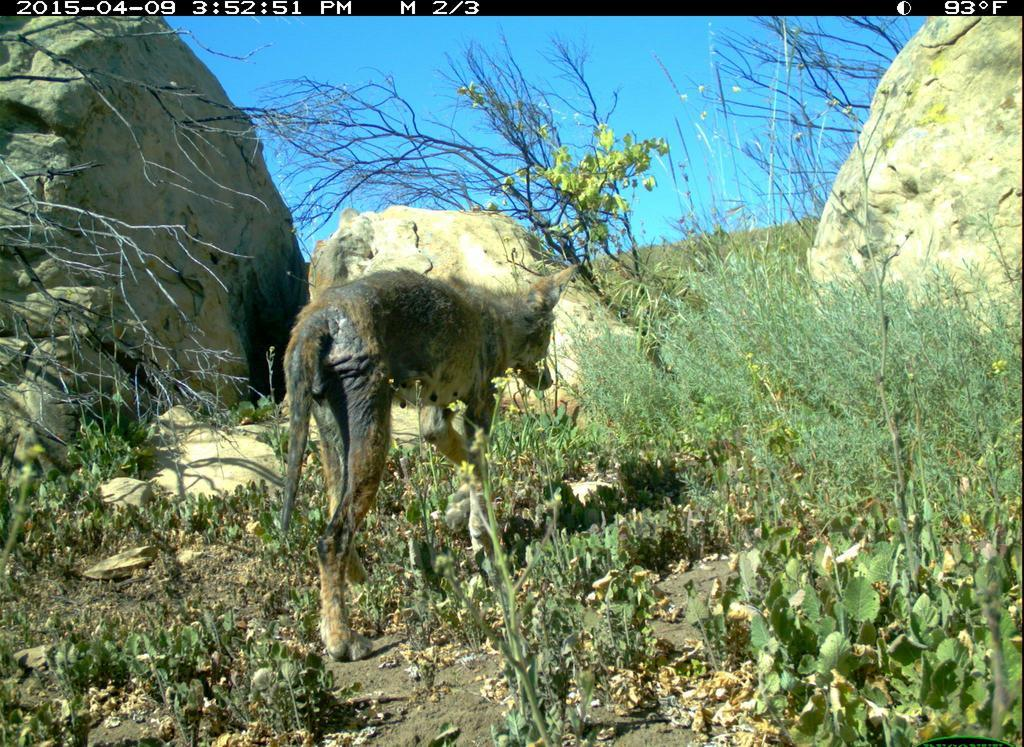coyote: (226, 251, 597, 674)
